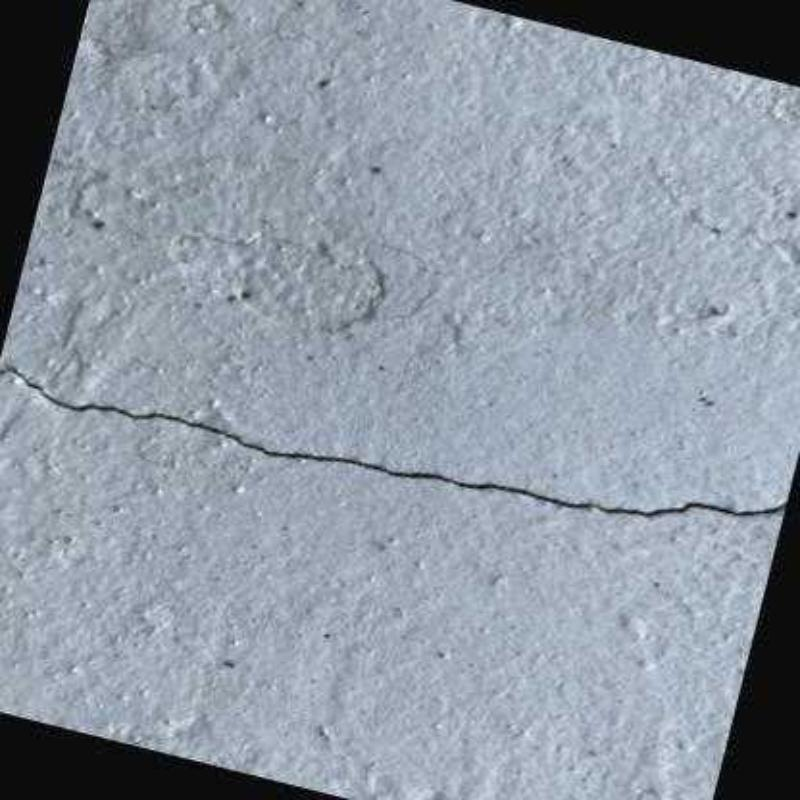pothole: (2, 369, 789, 517)
